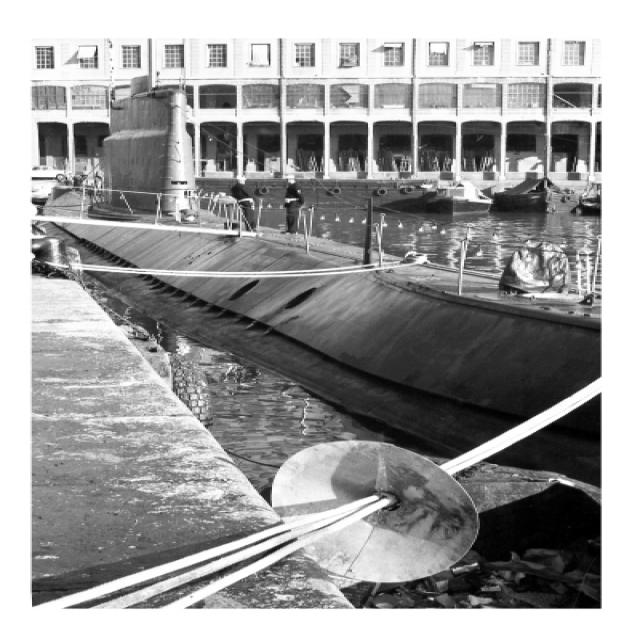submarine: (35, 79, 603, 474)
